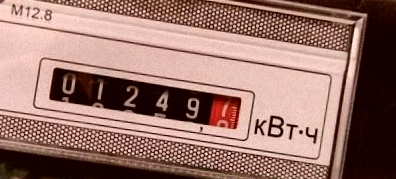0: (59, 69, 78, 96)
1: (91, 74, 107, 101)
2: (120, 82, 139, 110)
4: (153, 86, 171, 112)
7: (217, 92, 234, 119)
9: (181, 93, 200, 120)
screen: (29, 54, 258, 145)
